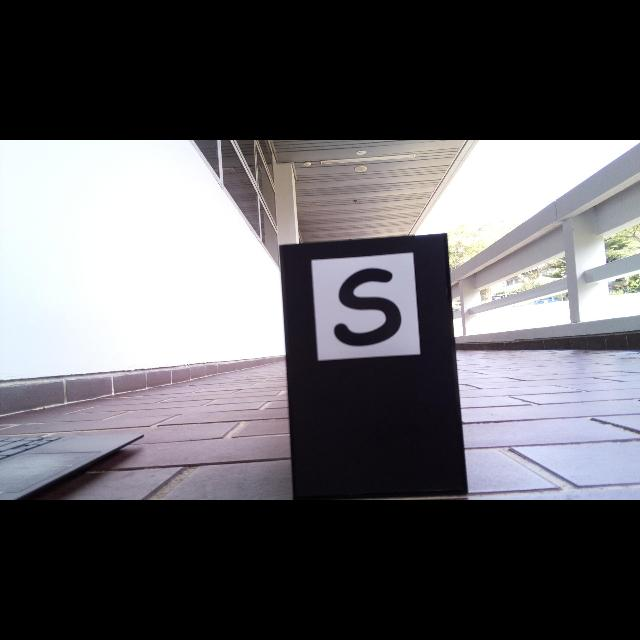S: (332, 268, 402, 346)
